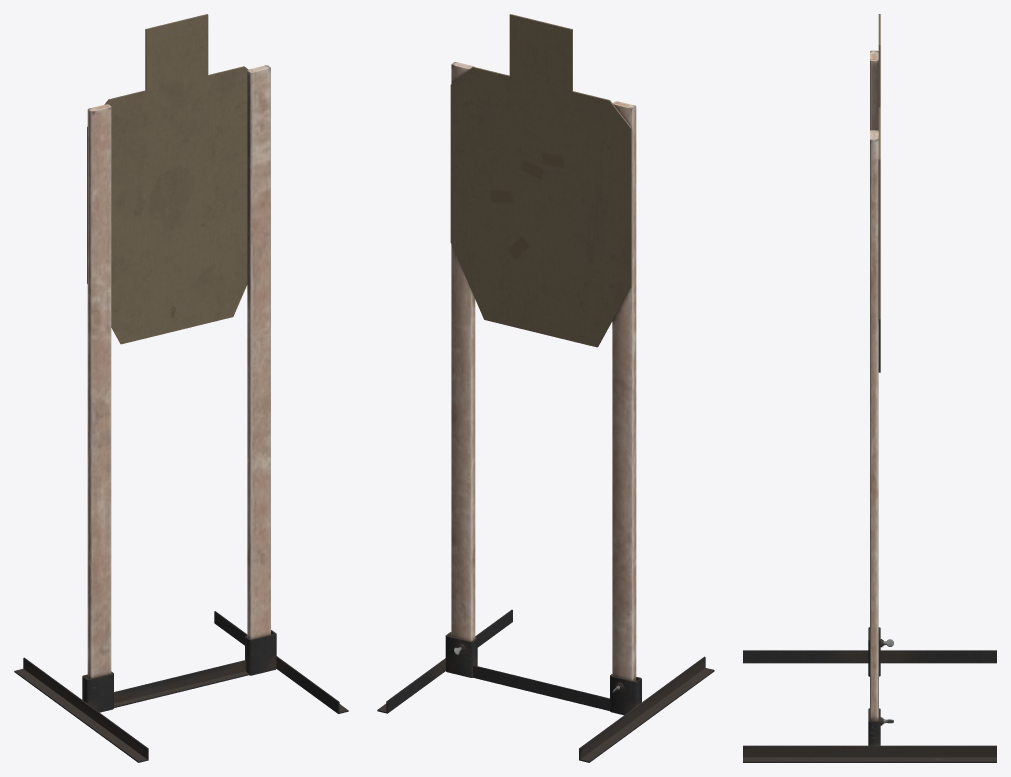
Rendered from target_paper_target.glb.
3 views of the same model, side by side, from view 1: azimuth 30°, elevation 25°; view 2: azimuth 150°, elevation 25°; view 3: azimuth 270°, elevation 25° (orthographic). The views are drawn at different scales.
Parts seen in each view (by area): view 1: PaperTarget_TargetSet01_0; view 2: PaperTarget_TargetSet01_0; view 3: PaperTarget_TargetSet01_0.
Part boxes in pixels (box(x1,y1,x2,y2)): PaperTarget_TargetSet01_0: box(14, 14, 348, 762); PaperTarget_TargetSet01_0: box(377, 14, 714, 762); PaperTarget_TargetSet01_0: box(743, 14, 996, 762).
Size of the model in its own units: 0.542 by 1.64 by 0.5545.
1 material, 1 textured.
